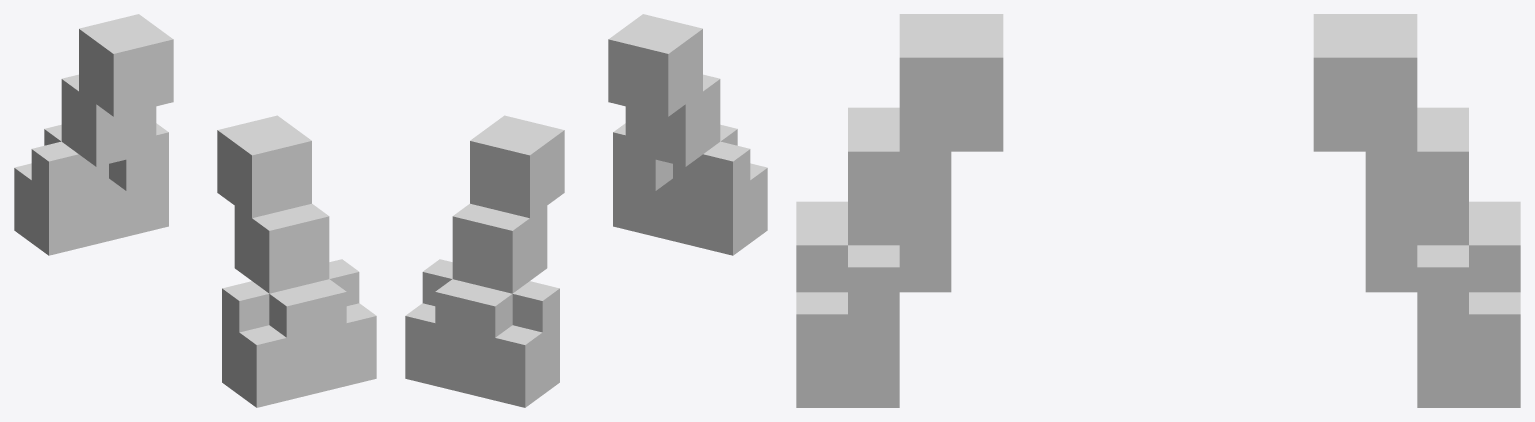
The model's file is robot-2.obj.
3 renders of one model, left to right at view 1: azimuth 30°, elevation 25°; view 2: azimuth 150°, elevation 25°; view 3: azimuth 270°, elevation 25°, orthographic. The views are drawn at different scales.
Size of the model in its own units: 0.4 by 0.7 by 1.4.
Materials: 1 (1 with a texture image).
